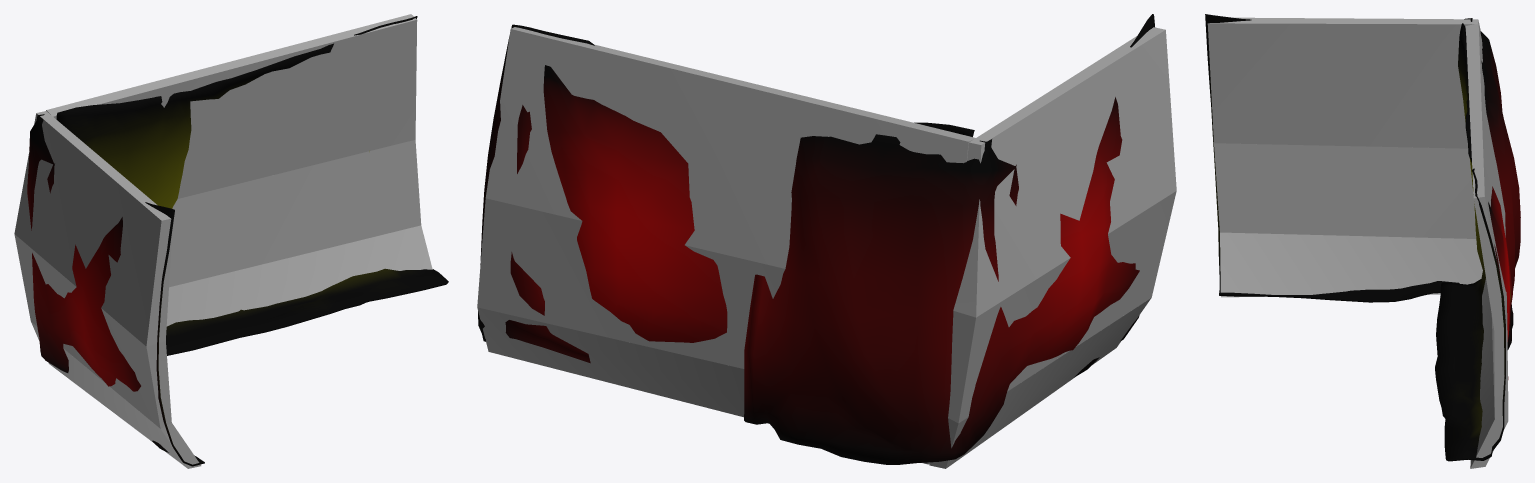
Rendered from Tent_03_Mesh.fbx.
The picture shows the model from 3 angles, left to right: view 1: azimuth 30°, elevation 25°; view 2: azimuth 150°, elevation 25°; view 3: azimuth 270°, elevation 25°; orthographic projection. The views are drawn at different scales.
Visible parts, largest first — view 1: Tent_03, Tent_03_LOD0; view 2: Tent_03, Tent_03_LOD0; view 3: Tent_03, Tent_03_LOD0.
Part boxes in pixels (box(x1,y1,x2,y2)): Tent_03: box(14, 14, 432, 468); Tent_03_LOD0: box(27, 16, 448, 466); Tent_03: box(477, 27, 1176, 468); Tent_03_LOD0: box(478, 14, 1154, 464); Tent_03: box(1207, 17, 1508, 468); Tent_03_LOD0: box(1205, 14, 1520, 461).
Size of what is drawn, in the model's own units: 37231 by 22817 by 24524.
